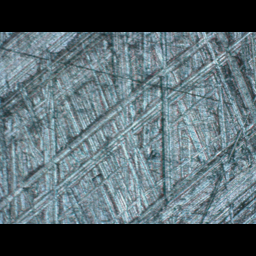d: (23, 40, 227, 215)
